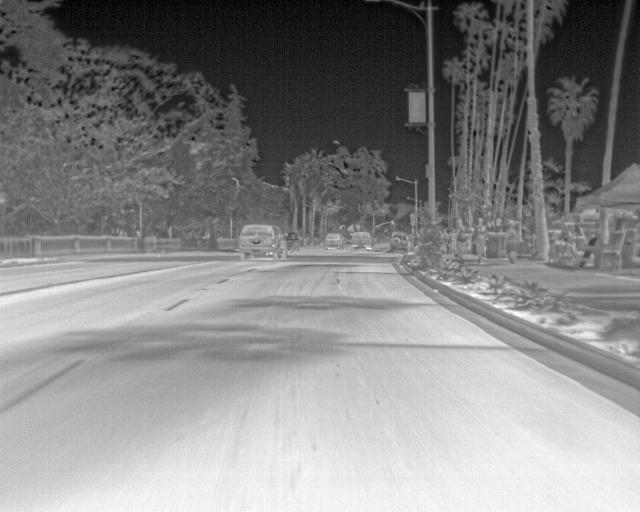bicycle: (235, 222, 285, 258), (386, 230, 410, 252), (319, 232, 343, 250), (350, 229, 371, 249), (284, 229, 300, 250)
empty: (470, 217, 488, 264), (502, 219, 518, 264), (438, 226, 451, 254), (489, 216, 506, 234)
